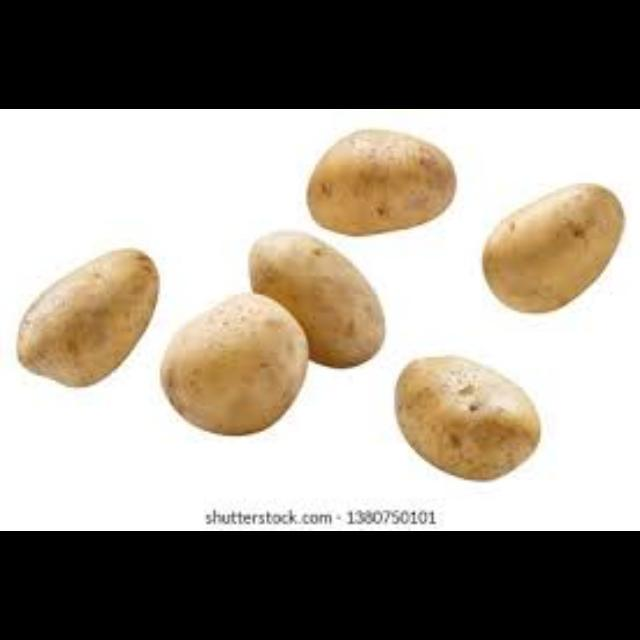Potato: (466, 165, 640, 328), (7, 244, 159, 392), (243, 224, 387, 376), (166, 286, 310, 436), (386, 350, 542, 484), (300, 122, 472, 235)
